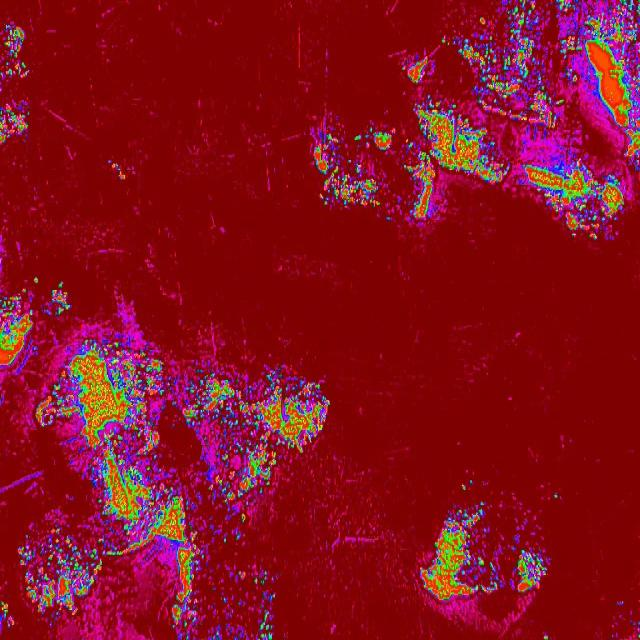fire: (0, 322, 279, 640), (403, 0, 640, 239), (416, 510, 556, 600), (305, 121, 402, 230), (280, 371, 334, 458), (0, 16, 30, 148), (0, 274, 73, 322)
